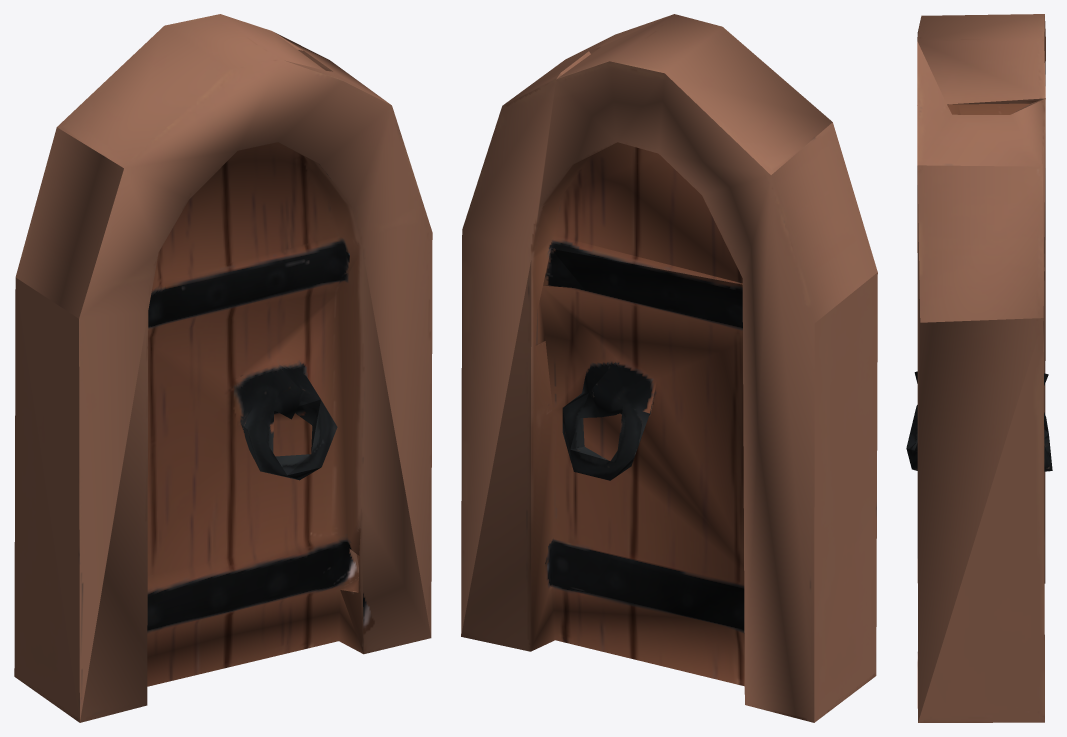
Rendered from arched-iron-door.glb.
The picture shows the model from 3 angles, left to right: view 1: azimuth 30°, elevation 25°; view 2: azimuth 150°, elevation 25°; view 3: azimuth 270°, elevation 25°; orthographic projection.
Visible parts, largest first — view 1: geometry_0.001; view 2: geometry_0.001; view 3: geometry_0.001.
Boxes of the visible parts, left/top/right/bottom form: geometry_0.001: left=14, top=14, right=432, bottom=722; geometry_0.001: left=461, top=14, right=877, bottom=722; geometry_0.001: left=906, top=14, right=1052, bottom=722.
Size of the model in its own units: 0.6006 by 0.9963 by 0.2157.
Materials: 1 (1 with a texture image).
